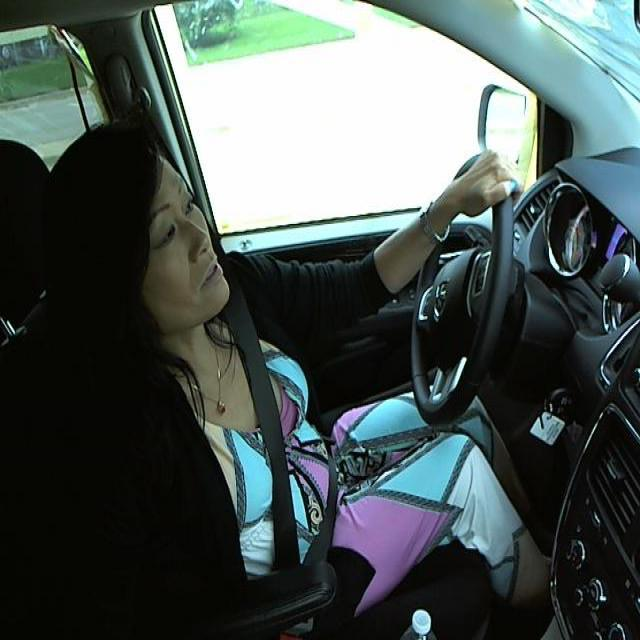seatbelt: (229, 308, 353, 560)
